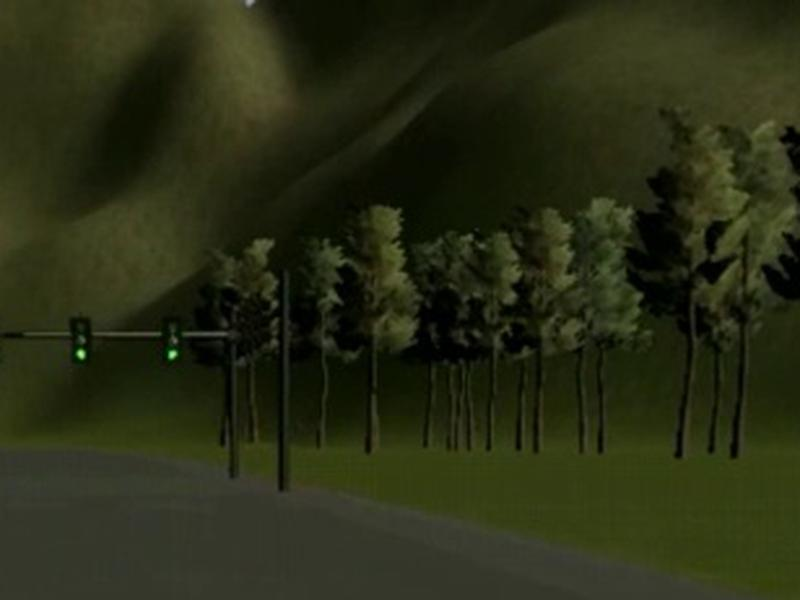Green: (162, 315, 182, 367), (70, 316, 92, 363)
